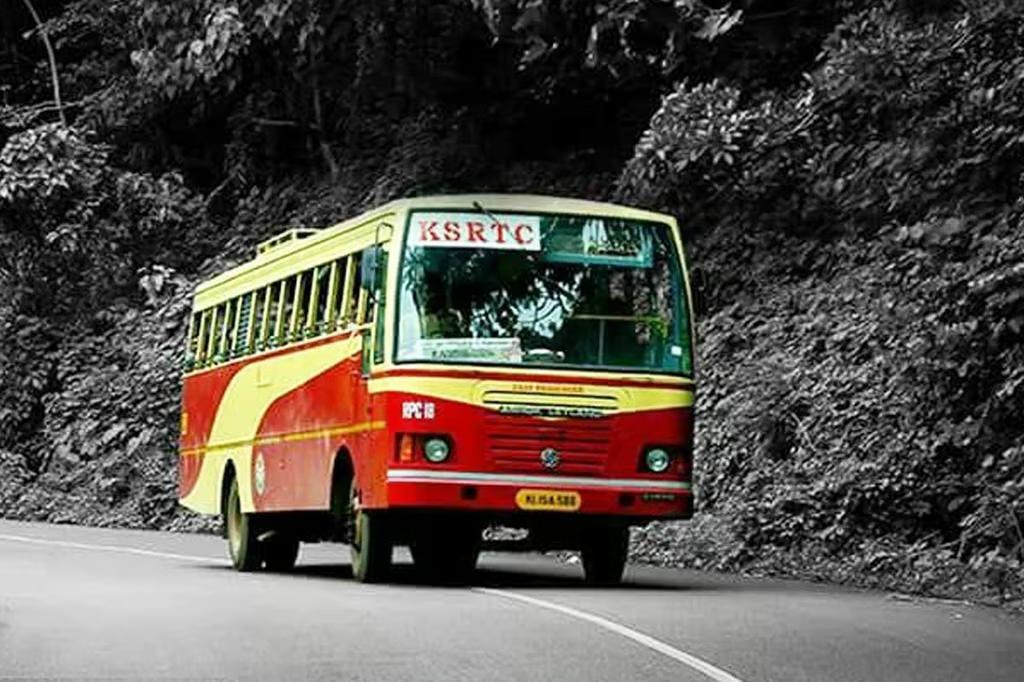Bus: (168, 191, 699, 587)
